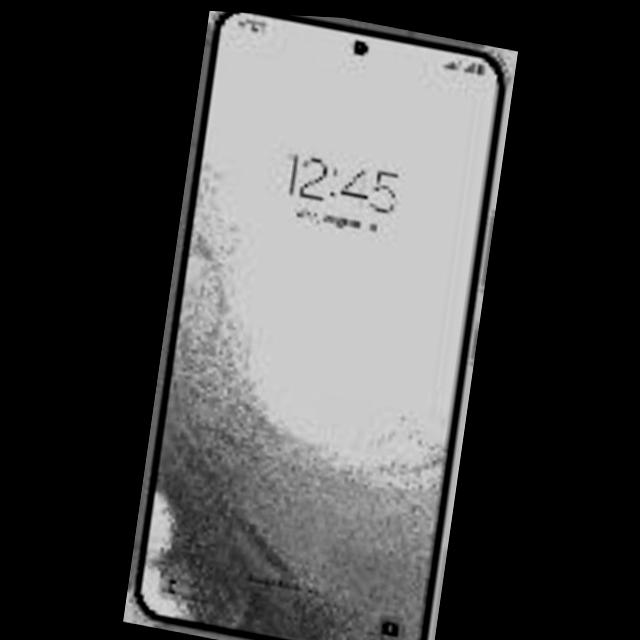Smartphone: (131, 5, 515, 640)
